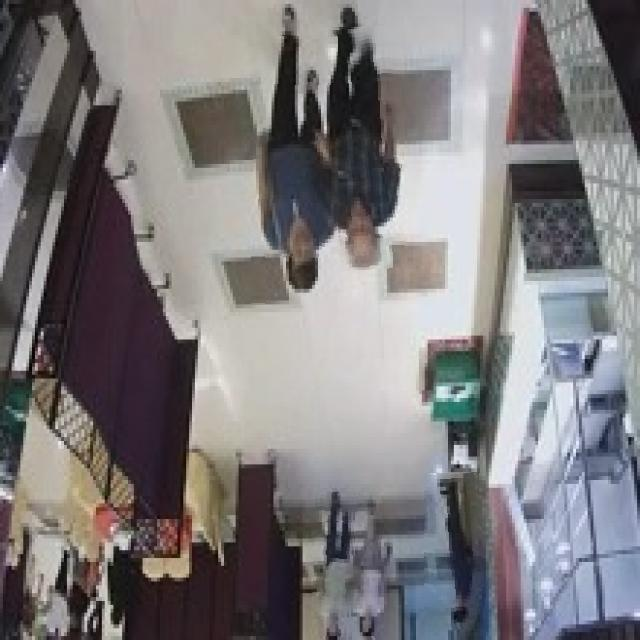Normal: (252, 36, 338, 305), (331, 26, 403, 270), (424, 473, 485, 632), (313, 490, 357, 640), (355, 500, 383, 638)
